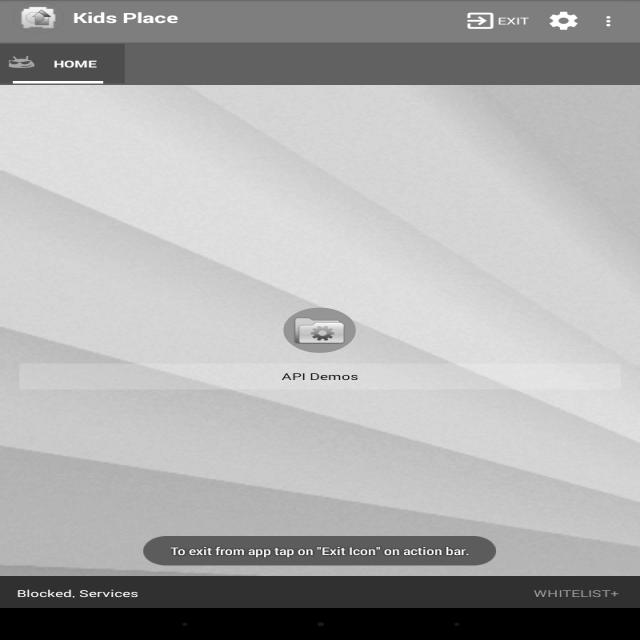ImageButton: (454, 8, 533, 32), (536, 2, 582, 34), (593, 4, 624, 34)
ImageView: (270, 301, 370, 355), (7, 1, 60, 32)
TextView: (168, 536, 487, 560), (7, 579, 144, 604), (518, 579, 628, 603), (66, 10, 191, 26), (272, 367, 374, 383), (42, 52, 116, 74)
